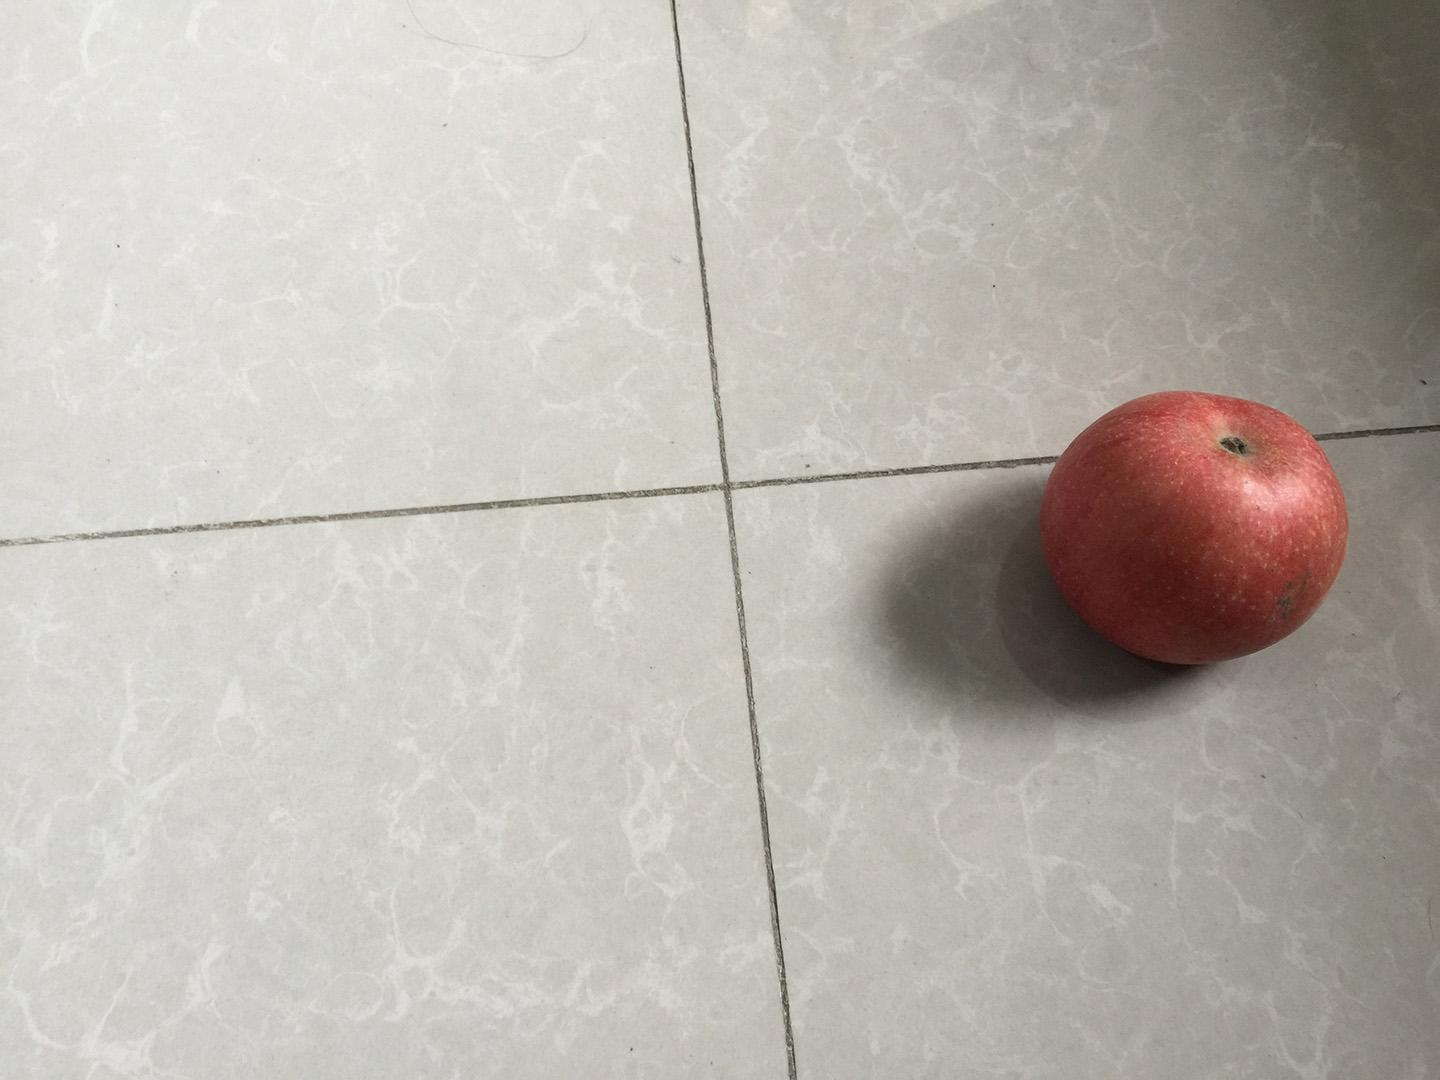apple: (1030, 381, 1354, 672)
